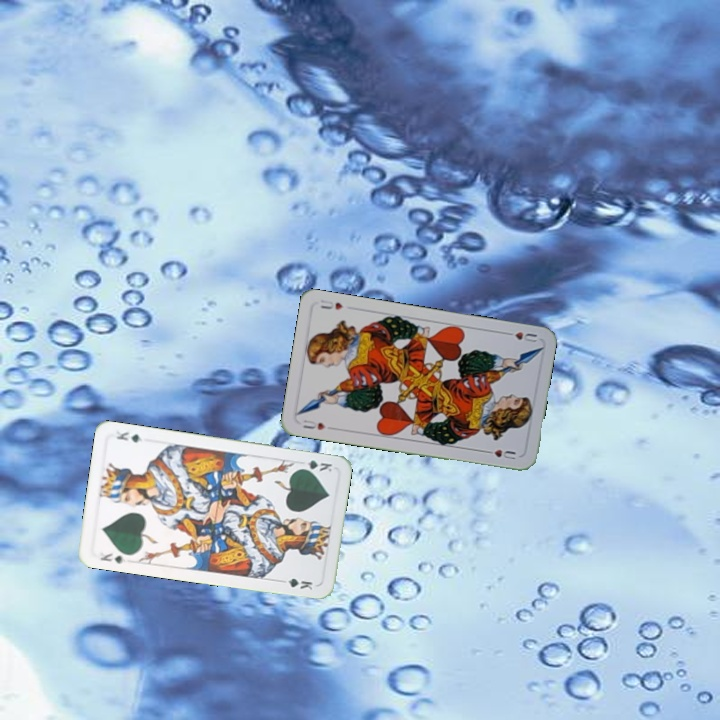GK: (295, 456, 334, 474), (96, 549, 129, 566)
HU: (501, 328, 540, 345), (299, 415, 328, 433)
